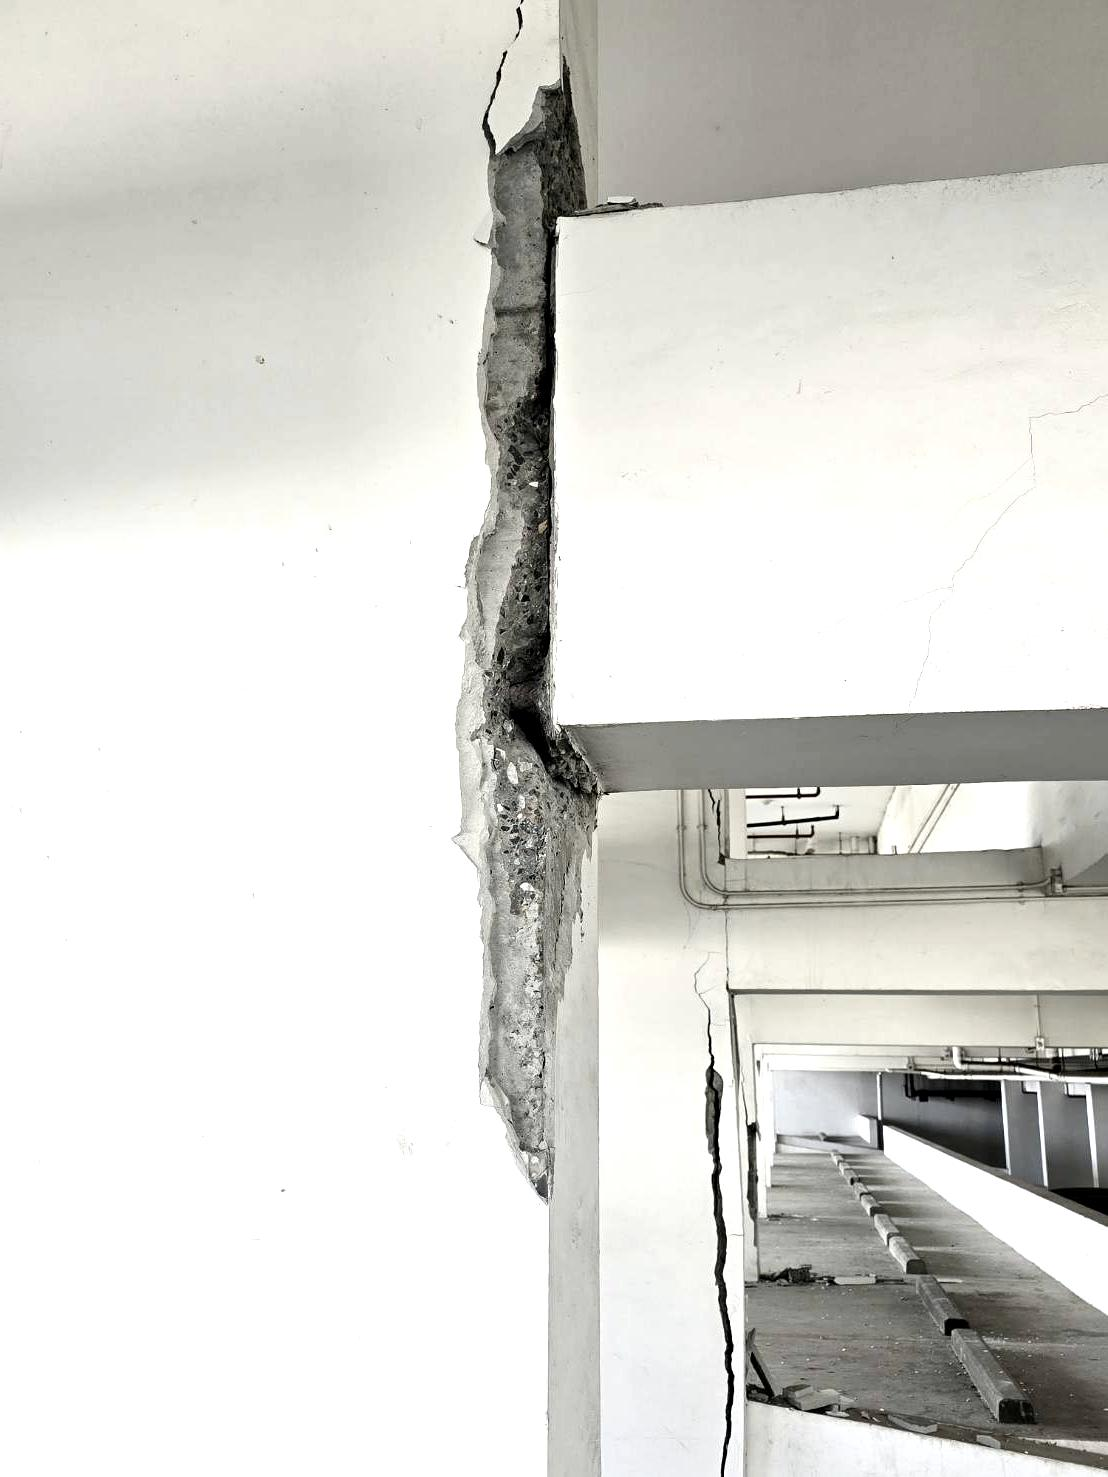High: (374, 2, 821, 1477)
